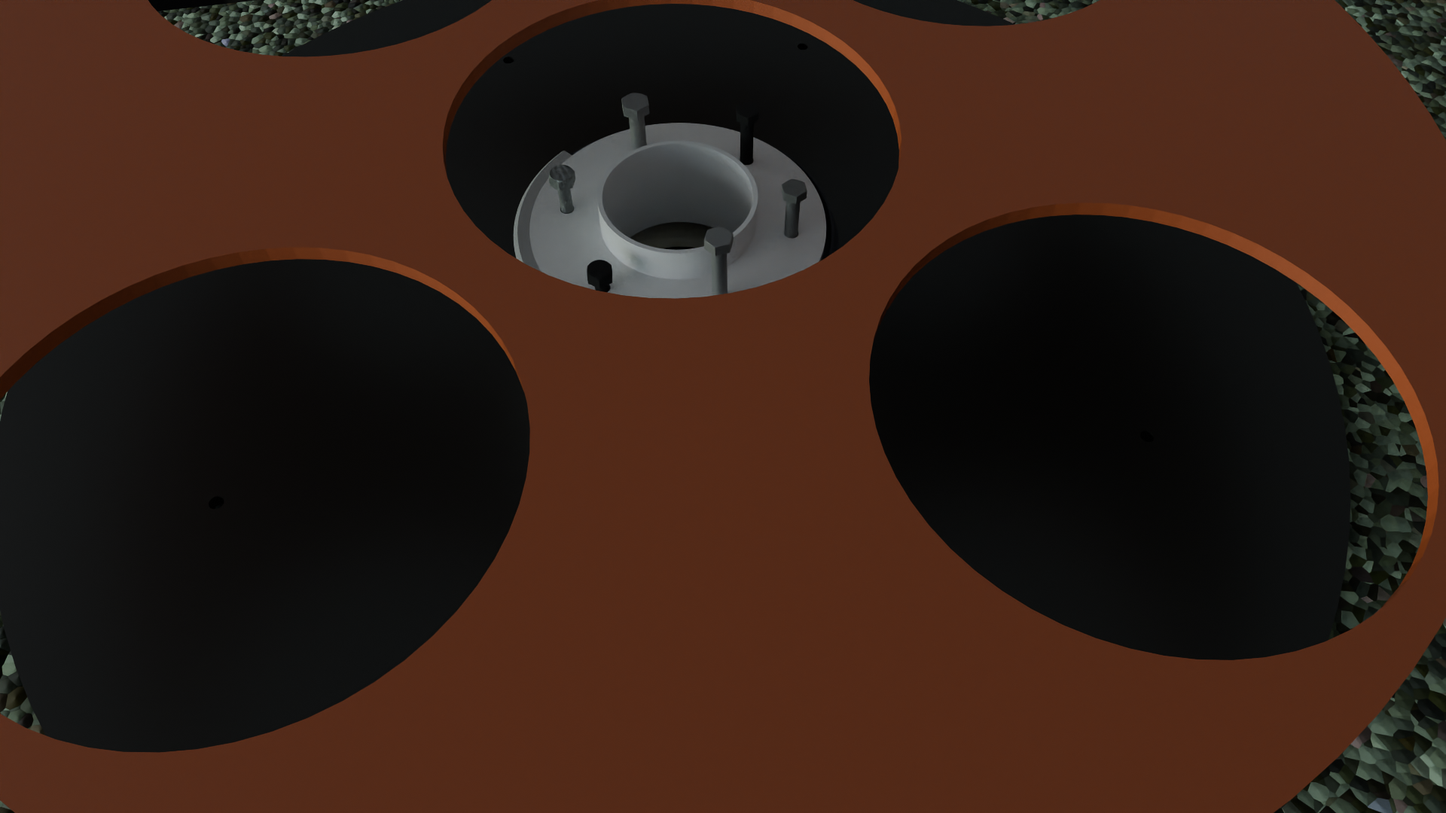bolt: (704, 227, 733, 248), (587, 260, 612, 282), (621, 93, 649, 111), (549, 165, 575, 184), (782, 179, 807, 197), (737, 102, 758, 118)
